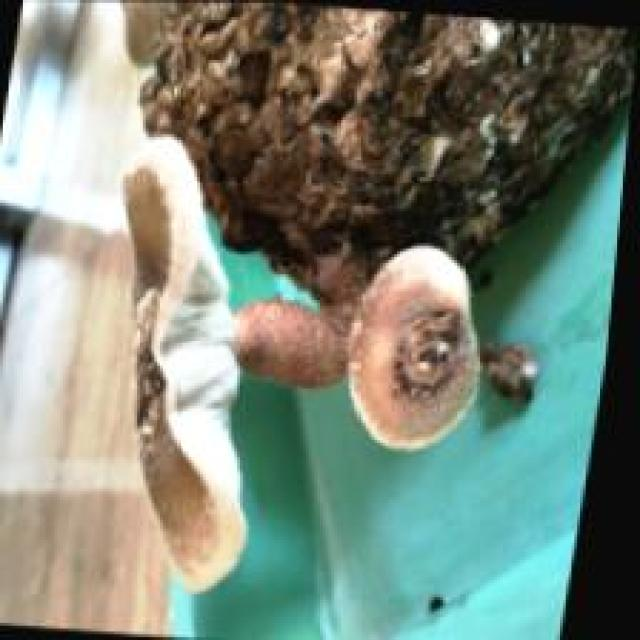death-cap: (343, 240, 483, 451)
